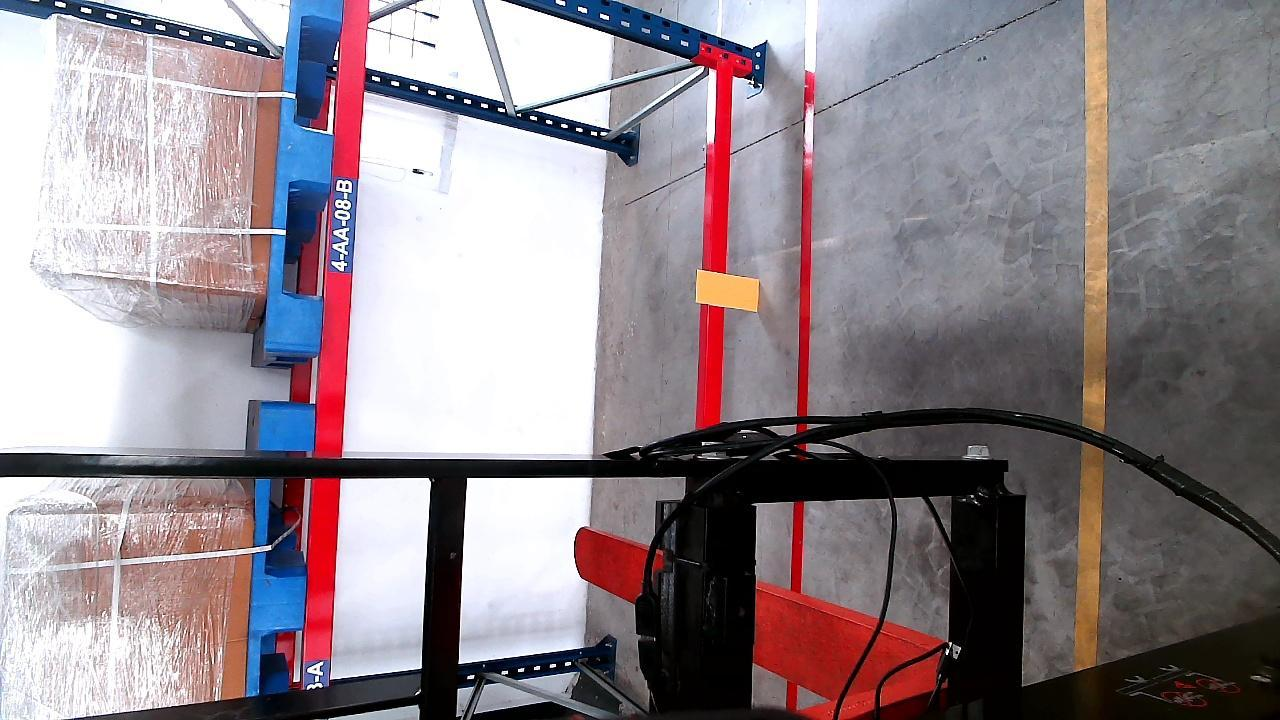red_line: (789, 0, 820, 594)
yellow_line: (1079, 0, 1107, 672)
